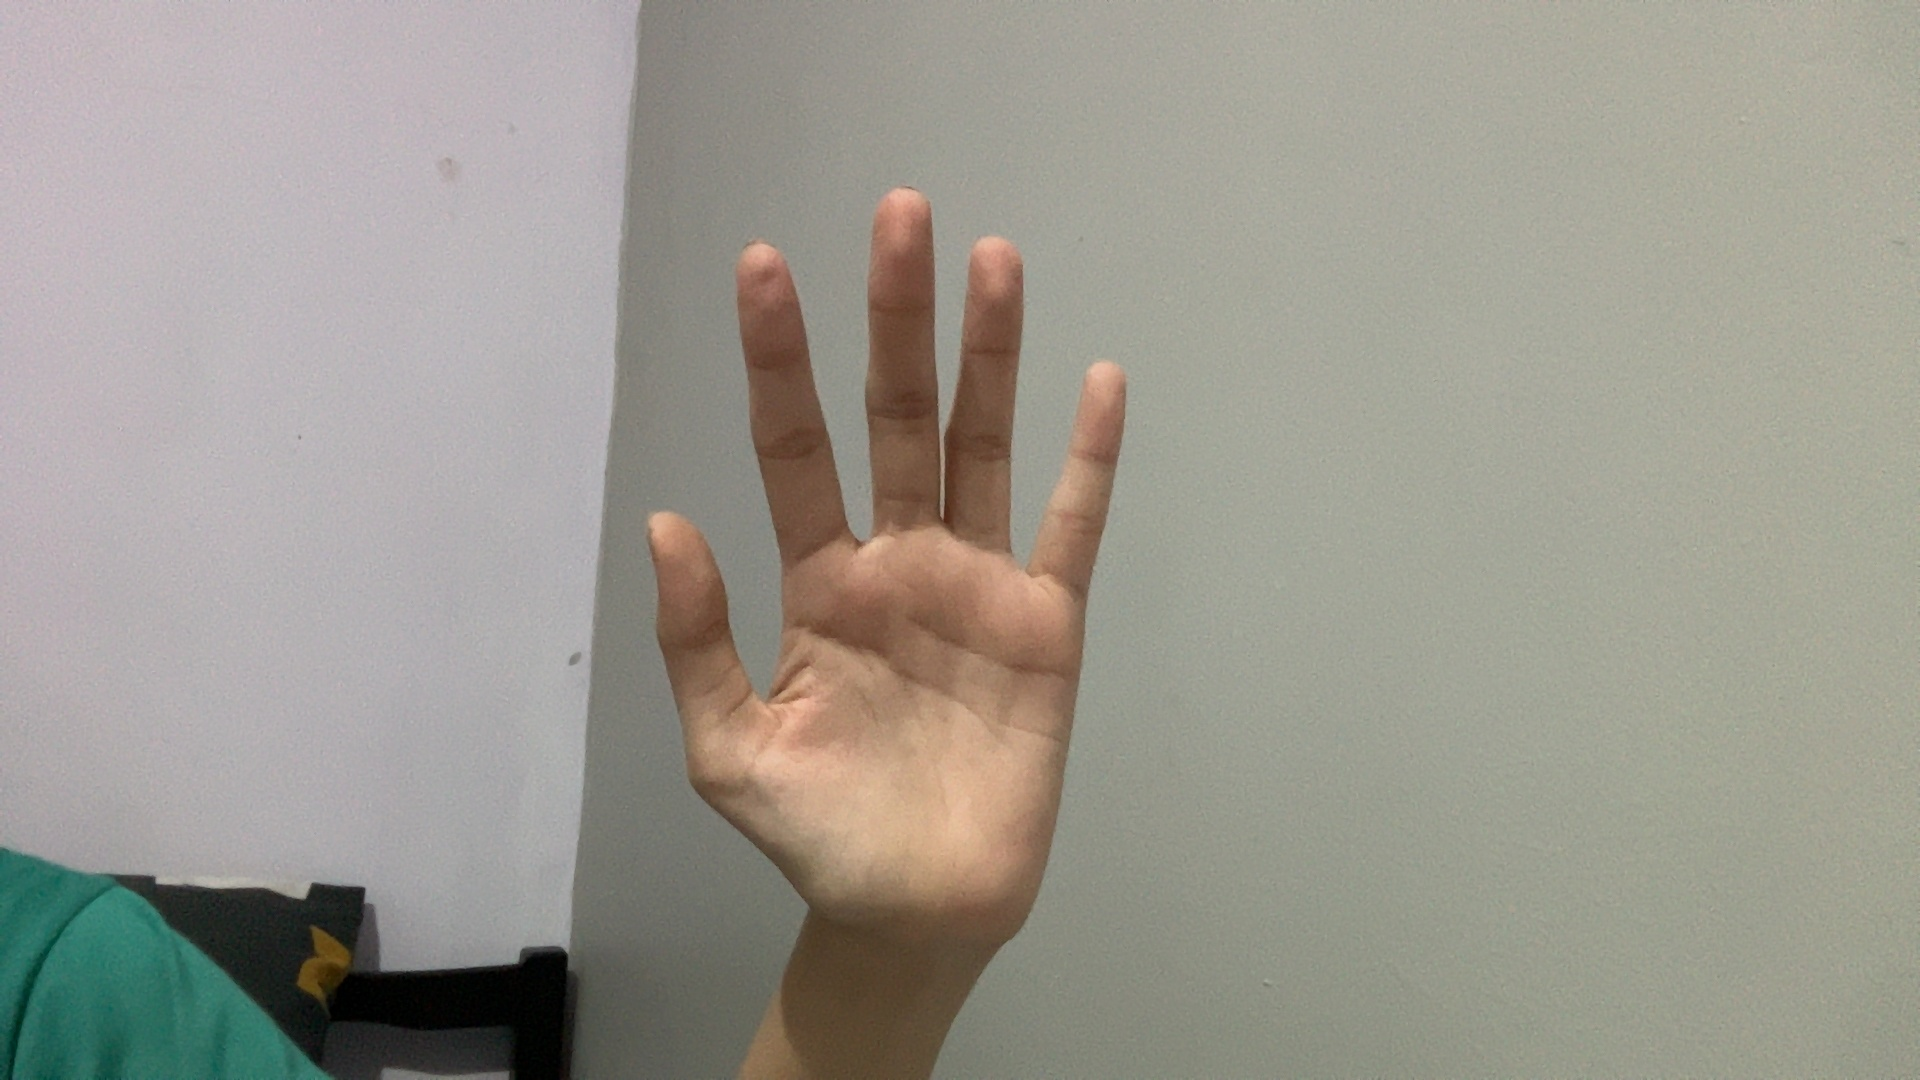Hello: (579, 196, 1255, 959)
